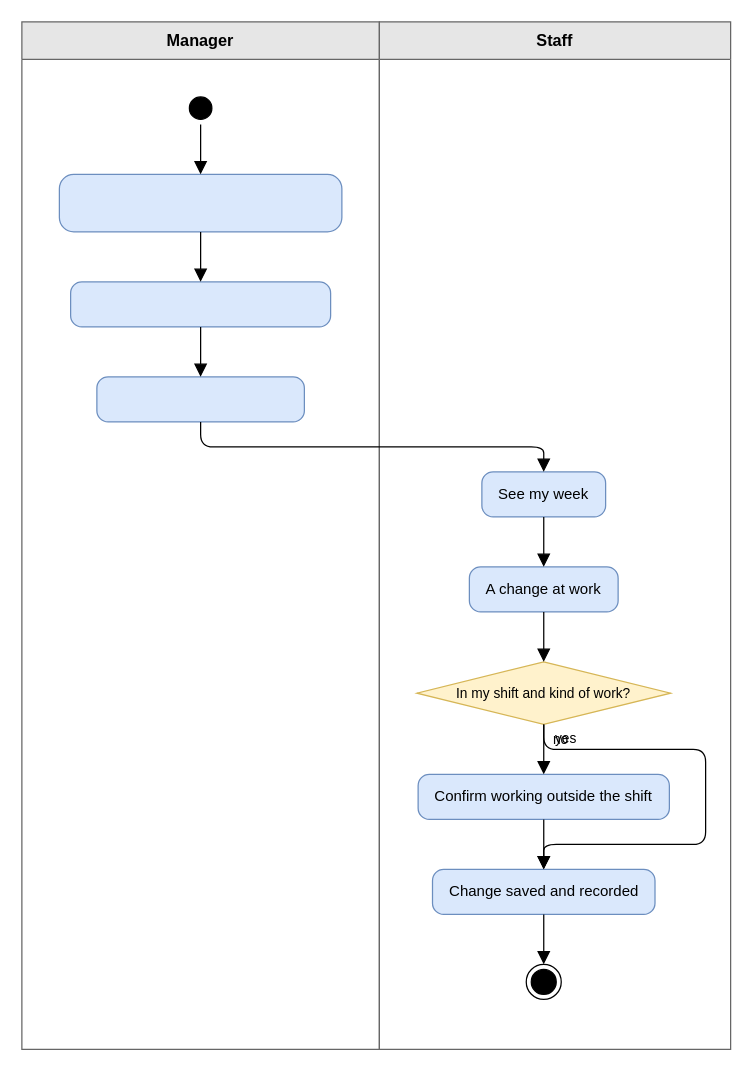
Some shapes in this 753 by 1071 pixel diagram are drawn without their labels. Here are the shapes that lost their labels. From the top down, the box of each, then its label:
(58, 173, 342, 232): Reminder on the day and hour Admin set
(69, 281, 331, 327): Plan next week's shifts per person
(96, 376, 304, 422): Send the week's schedule
